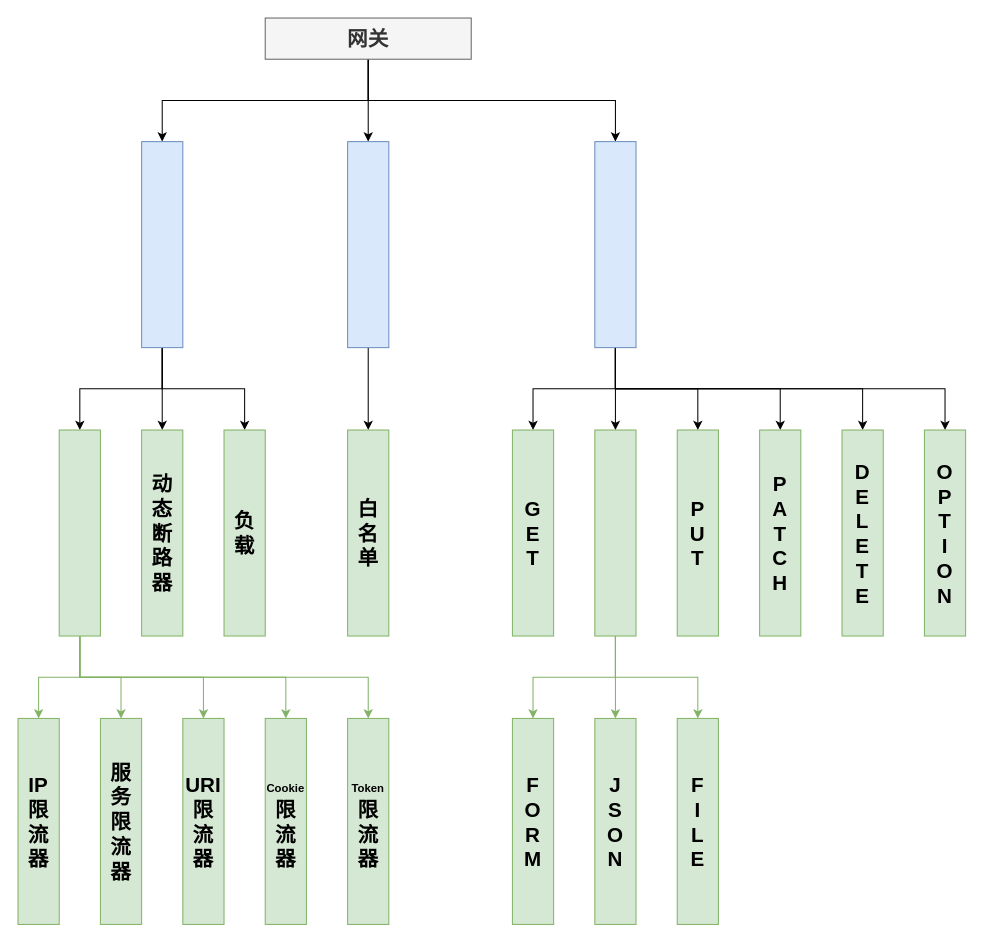
This 984x942 diagram has some shape labels left out. The centre of each missing label's shape, as x and y in pixels:
P O S T: point 615,532
动态限流器: point 79,532
日志: point 615,244
认证: point 368,244
路由: point 162,244
